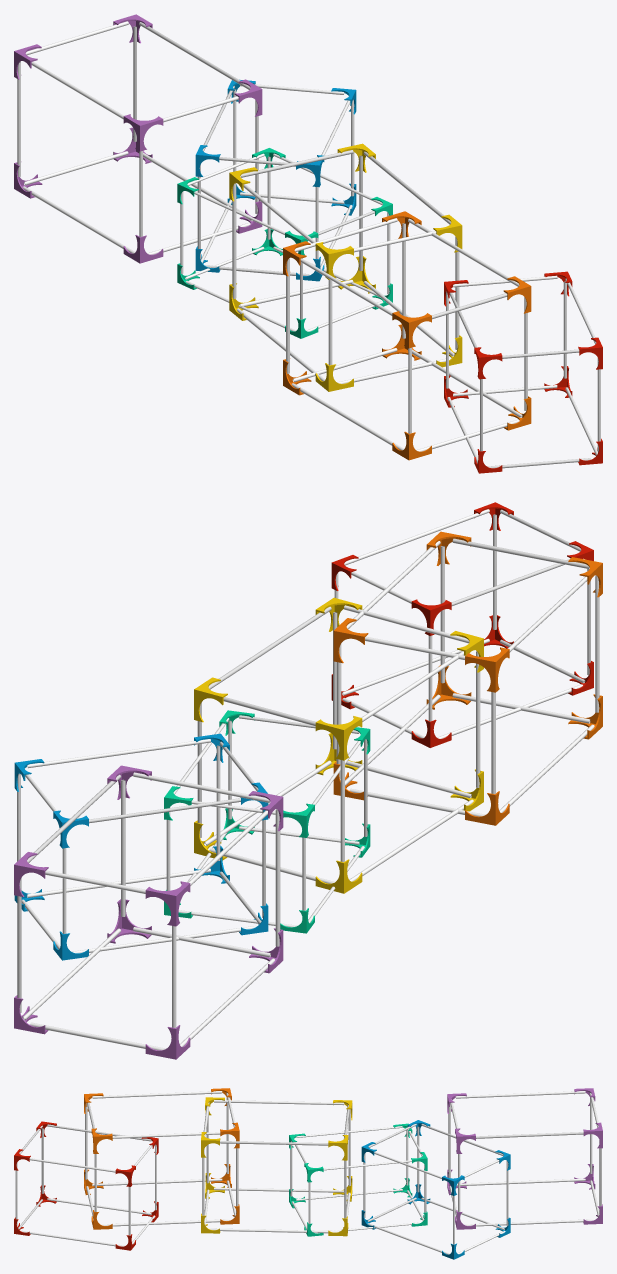
Rendered from PRISMA.fbx.
3 renders of one model, top to bottom at view 1: azimuth 30°, elevation 25°; view 2: azimuth 150°, elevation 25°; view 3: azimuth 270°, elevation 25°, orthographic. The views are drawn at different scales.
Parts seen in each view (by area): view 1: no part large enough to name; view 2: Cylinder.056, Cube.020, Cylinder.062, Cube.044, Cube.011; view 3: Cylinder.064, Cylinder.016, Cylinder.028, Cylinder.063, Cylinder.027, Cylinder.015, Cylinder.031, Cylinder.067, Cylinder.019, Cylinder.032, Cylinder.068, Cylinder.020 (+5 smaller).
Boxes of the visible parts, box(x1,y1,x2,y2) form: Cylinder.056: box(27, 739, 210, 768); Cube.020: box(315, 716, 362, 760); Cylinder.062: box(275, 809, 280, 946); Cube.044: box(145, 881, 190, 926); Cube.011: box(465, 647, 509, 692); Cylinder.064: box(455, 1091, 585, 1098); Cylinder.016: box(92, 1091, 222, 1098); Cylinder.028: box(214, 1100, 344, 1105); Cylinder.063: box(456, 1178, 585, 1186); Cylinder.027: box(214, 1187, 344, 1192); Cylinder.015: box(92, 1178, 222, 1186); Cylinder.031: box(209, 1228, 339, 1233); Cylinder.067: box(464, 1219, 594, 1226); Cylinder.019: box(101, 1219, 230, 1226); Cylinder.032: box(220, 1141, 336, 1145); Cylinder.068: box(476, 1132, 591, 1138); Cylinder.020: box(112, 1132, 228, 1138).
Size of the model in its own units: 929 by 513 by 2934.
